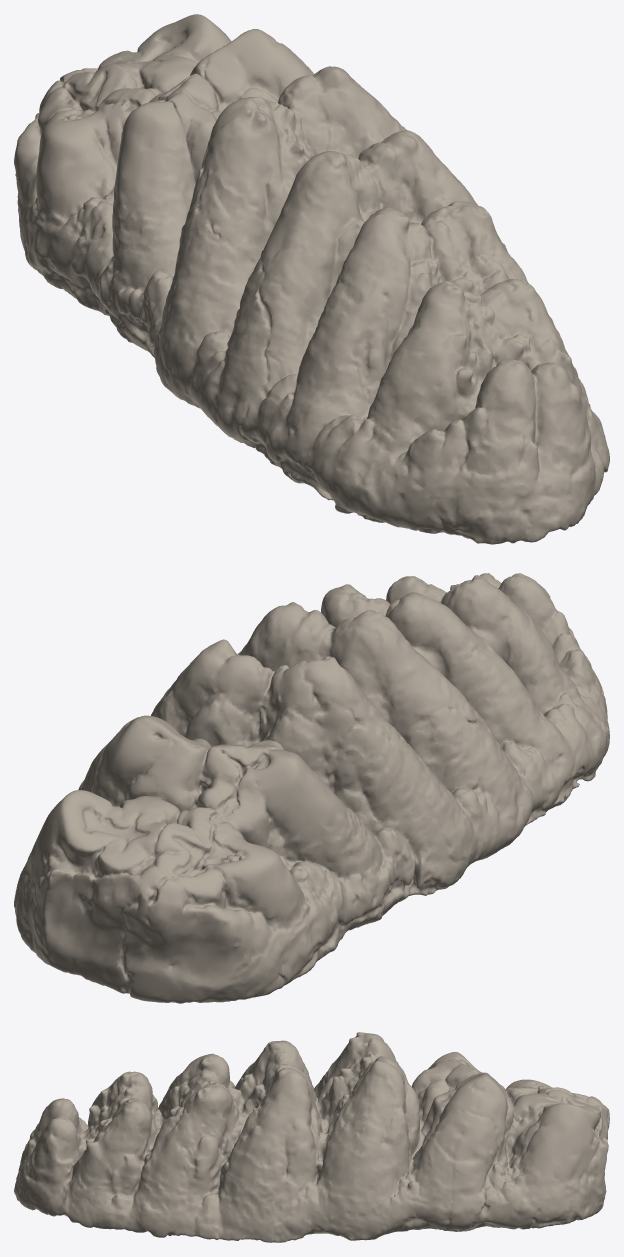
3 renders of one model, top to bottom at view 1: azimuth 30°, elevation 25°; view 2: azimuth 150°, elevation 25°; view 3: azimuth 270°, elevation 25°, orthographic. The views are drawn at different scales.
Parts seen in each view (by area): view 1: specimen; view 2: specimen; view 3: specimen.
Part boxes in pixels (x1=…): specimen: x1=14, y1=14, x2=609, y2=544; specimen: x1=14, y1=573, x2=609, y2=1003; specimen: x1=14, y1=1032, x2=609, y2=1242.
Bounding box in the file's own units: 0.0969 × 0.0698 × 0.2361.
